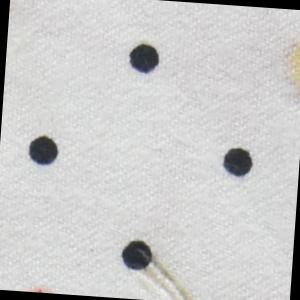Oil Stain: (125, 242, 201, 300)
Stain: (278, 23, 300, 108), (26, 283, 58, 295)
